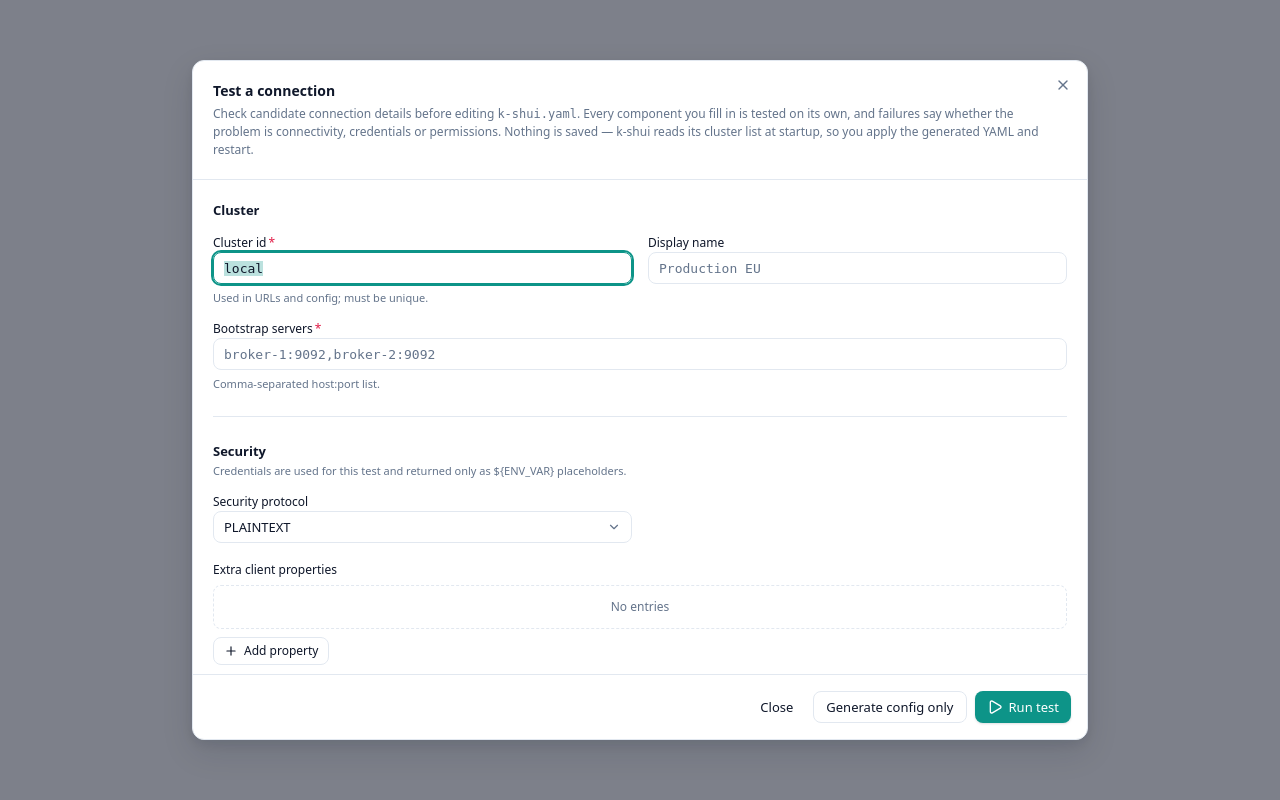
ConnectionTesterDialog › renders the generated YAML with the restart instruction
Type "broker-1:9092" into the field labelled "Bootstrap servers*" at [640, 354], box [213,338,1067,370]
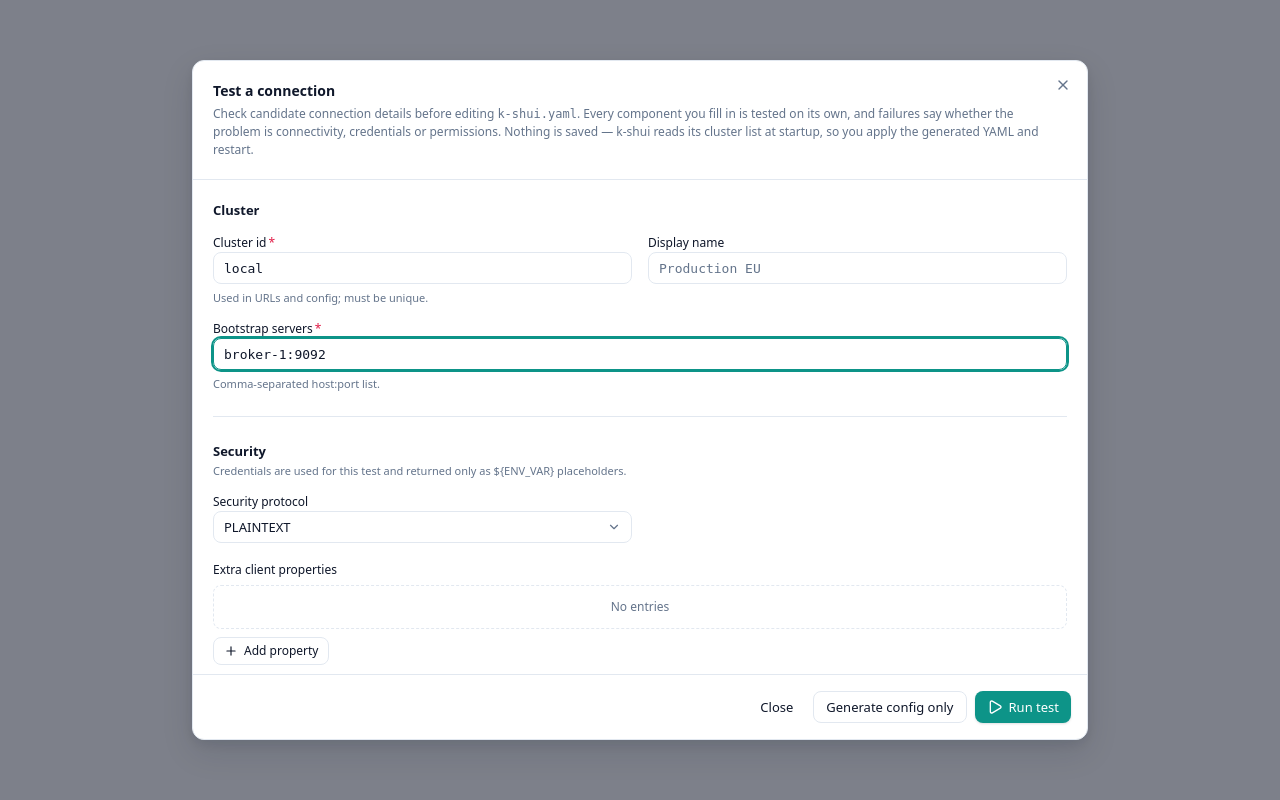
Click the button "Run test" at [1023, 707], box [974,691,1071,723]
(page scrolled)
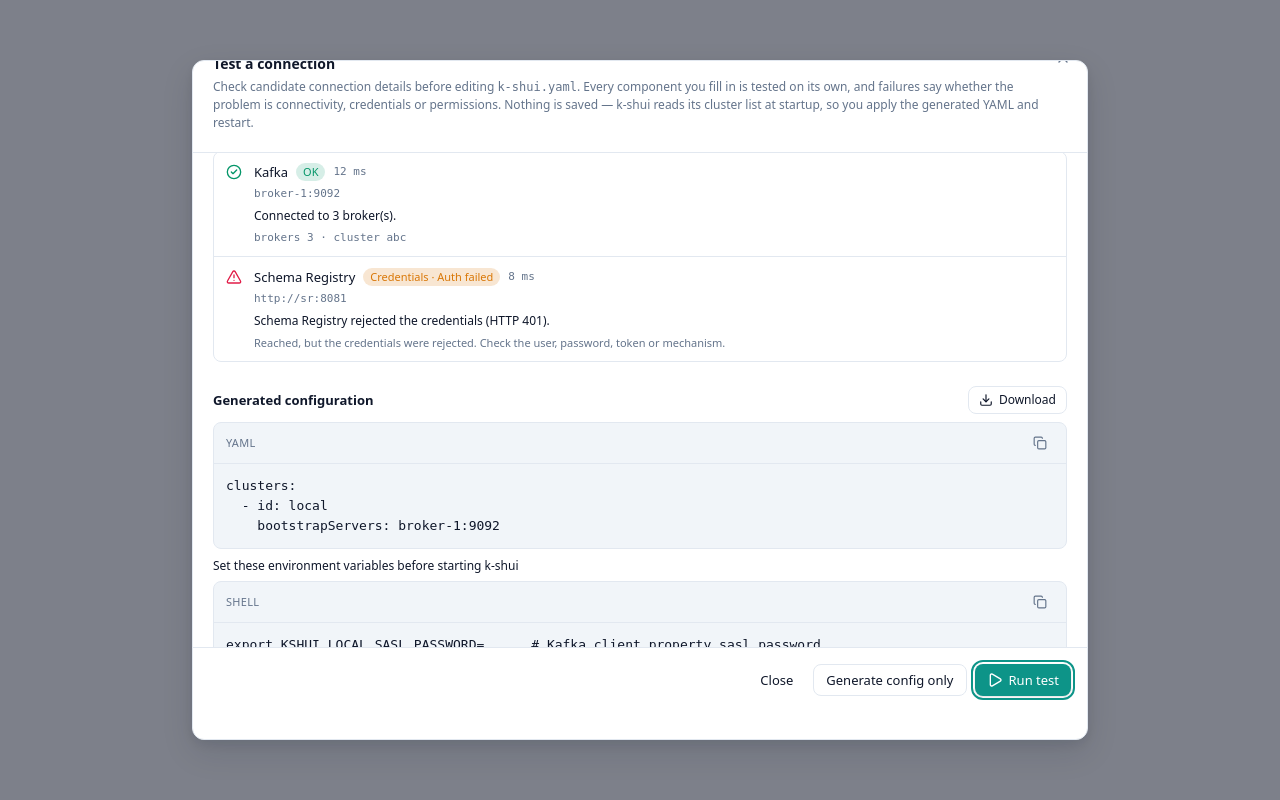
Expected: the text "clusters: - id: local bootstrapServers: broker-1:9092" is shown, [226,478,500,533]
Expected: the text "export KSHUI_LOCAL_SASL_PASSWORD" is shown, [226,637,829,647]
Expected: the button "Download" is shown, [968,386,1067,414]
